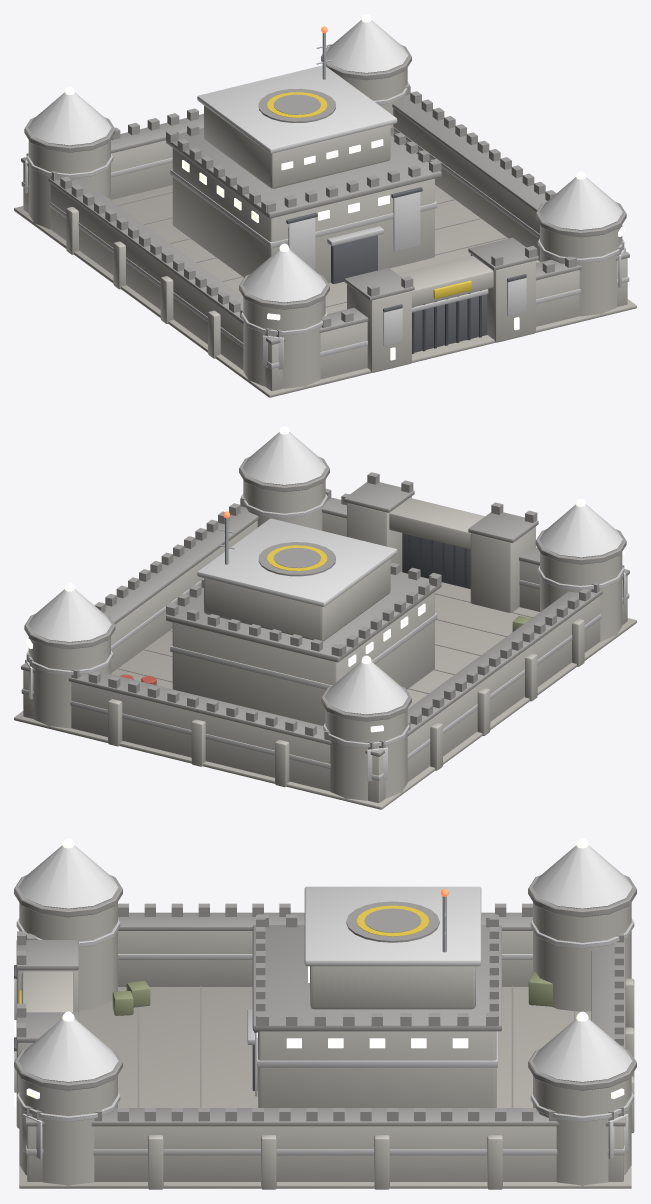
File: fort.glb
3 renders of one model, top to bottom at view 1: azimuth 30°, elevation 25°; view 2: azimuth 150°, elevation 25°; view 3: azimuth 270°, elevation 25°, orthographic. The views are drawn at different scales.
Visible parts, largest first — view 1: fort; view 2: fort; view 3: fort.
Boxes of the visible parts, left/top/right/bottom form: fort: left=14, top=14, right=636, bottom=397; fort: left=14, top=426, right=636, bottom=809; fort: left=14, top=838, right=636, bottom=1189.
Bounding box in the file's own units: 10 × 4.71 × 12.
